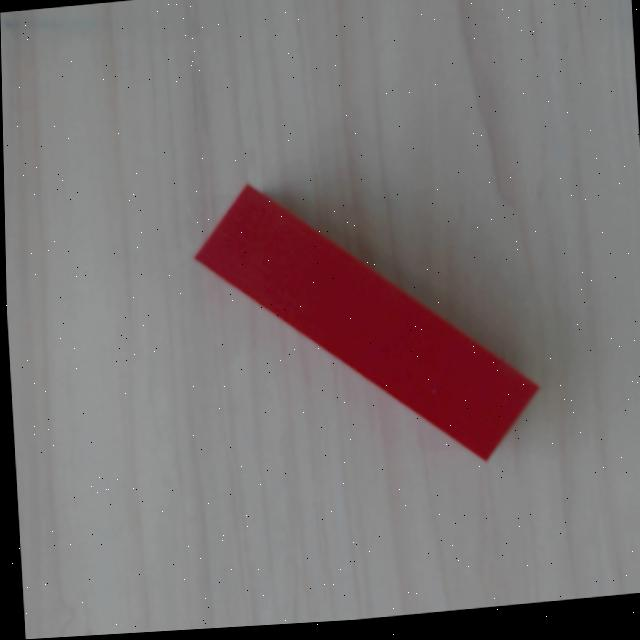Balok-Merah-1002525: (194, 181, 540, 462)
